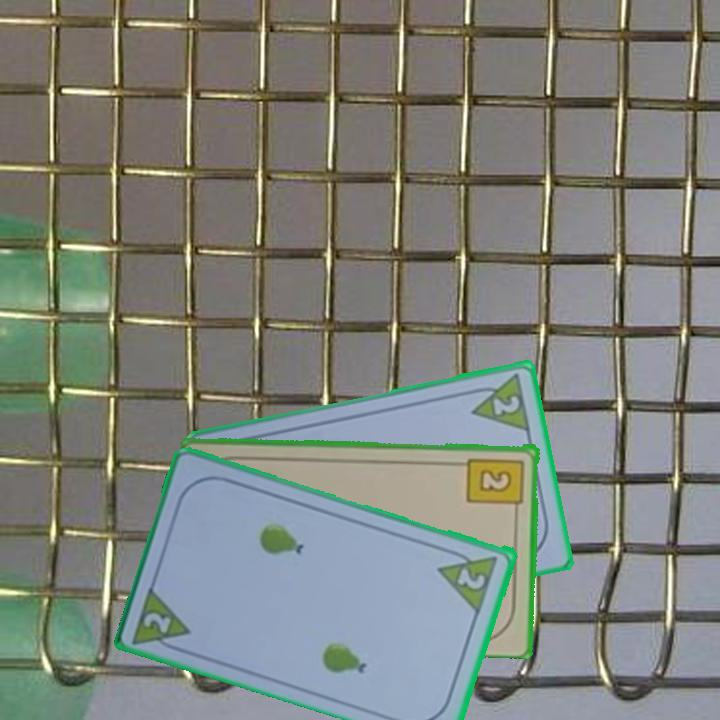2b: (465, 454, 527, 516)
2p: (435, 544, 502, 614), (465, 369, 534, 434), (140, 608, 175, 636)
